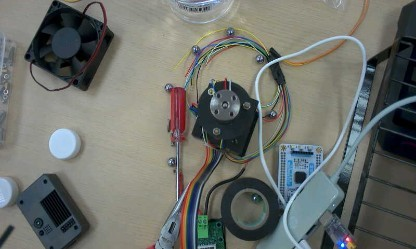ironball: (251, 193, 261, 203), (190, 44, 199, 54), (166, 157, 175, 166), (255, 54, 264, 63), (267, 110, 276, 118), (226, 27, 234, 36), (164, 83, 172, 91)
